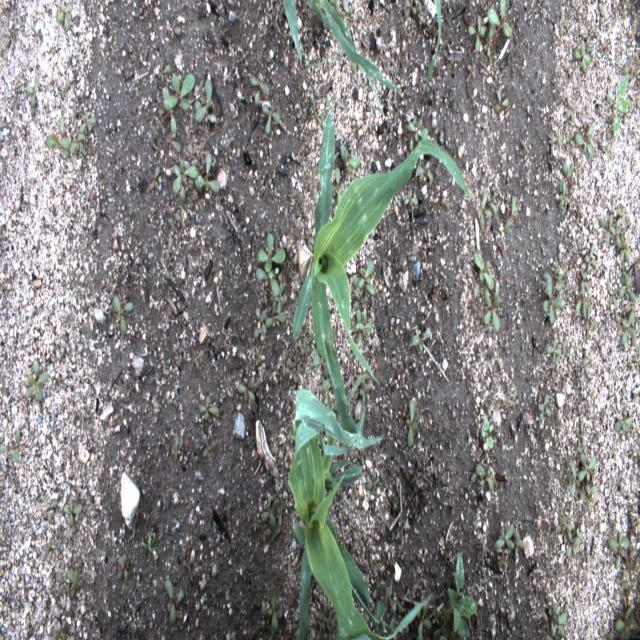crop: (292, 102, 473, 450), (288, 387, 431, 639), (304, 0, 400, 92), (424, 0, 442, 91), (281, 0, 302, 64)
weed: (449, 548, 478, 637), (484, 0, 512, 59), (573, 279, 598, 343), (159, 71, 195, 114), (255, 229, 286, 274), (171, 158, 198, 207), (192, 150, 220, 197), (612, 73, 631, 140), (191, 78, 218, 124), (492, 522, 524, 560), (261, 580, 283, 635), (352, 257, 377, 305), (156, 85, 177, 140), (163, 576, 185, 628), (472, 250, 495, 299), (481, 280, 501, 335), (25, 358, 49, 403), (542, 270, 562, 324), (466, 14, 489, 56), (608, 530, 629, 575), (45, 131, 77, 159), (113, 295, 134, 337), (260, 494, 285, 529), (0, 427, 23, 465), (575, 120, 595, 161), (544, 337, 563, 380), (502, 193, 520, 238), (251, 72, 271, 112), (432, 606, 457, 638), (354, 309, 373, 350), (64, 498, 84, 535), (340, 142, 361, 177), (256, 266, 280, 296), (414, 598, 432, 638), (403, 117, 428, 145), (264, 300, 288, 329), (405, 396, 418, 449), (547, 604, 566, 640), (261, 104, 282, 136), (565, 462, 582, 501), (559, 158, 577, 194), (577, 452, 596, 486), (565, 522, 583, 557), (56, 1, 75, 34), (55, 563, 74, 596), (620, 310, 637, 346), (571, 40, 591, 70), (598, 213, 615, 248), (476, 189, 491, 228), (614, 608, 632, 639), (270, 284, 287, 316), (162, 13, 182, 40), (617, 274, 636, 302), (198, 395, 219, 420), (411, 326, 432, 351), (68, 132, 88, 158), (43, 494, 59, 526), (475, 464, 494, 490), (202, 432, 218, 462), (415, 160, 434, 185), (616, 232, 631, 263), (237, 380, 257, 403), (481, 416, 494, 451), (538, 392, 552, 424), (254, 308, 268, 340), (78, 110, 97, 133), (141, 531, 159, 555), (493, 89, 511, 113), (487, 183, 500, 216), (25, 76, 38, 108), (66, 566, 79, 598), (583, 244, 596, 276), (579, 484, 596, 508), (559, 178, 570, 211), (566, 93, 578, 123), (116, 553, 129, 580), (51, 618, 68, 638), (155, 65, 173, 83), (402, 188, 419, 207), (170, 433, 180, 462), (613, 419, 633, 432), (403, 0, 417, 17), (508, 388, 517, 407)
